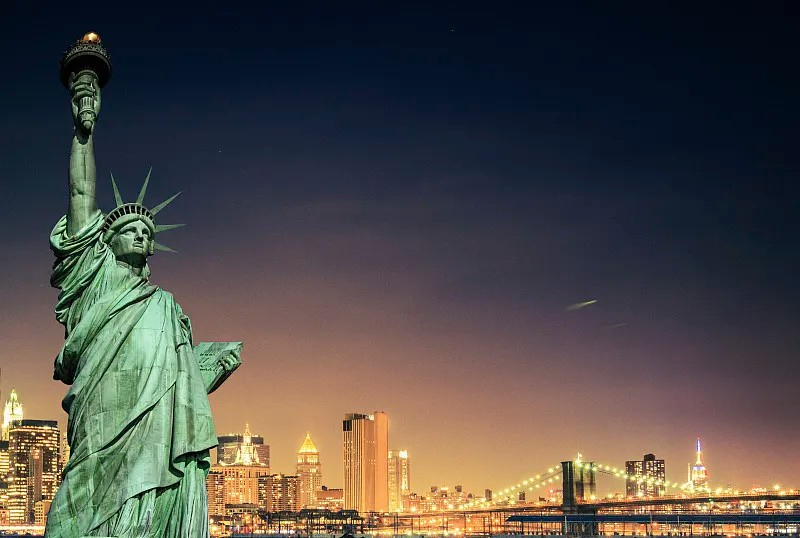SL: (42, 32, 243, 538)
